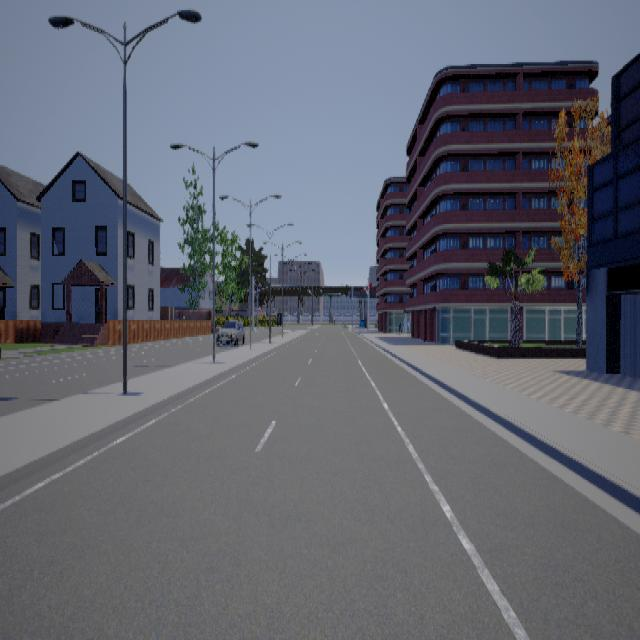vehicle: (215, 318, 244, 346)
